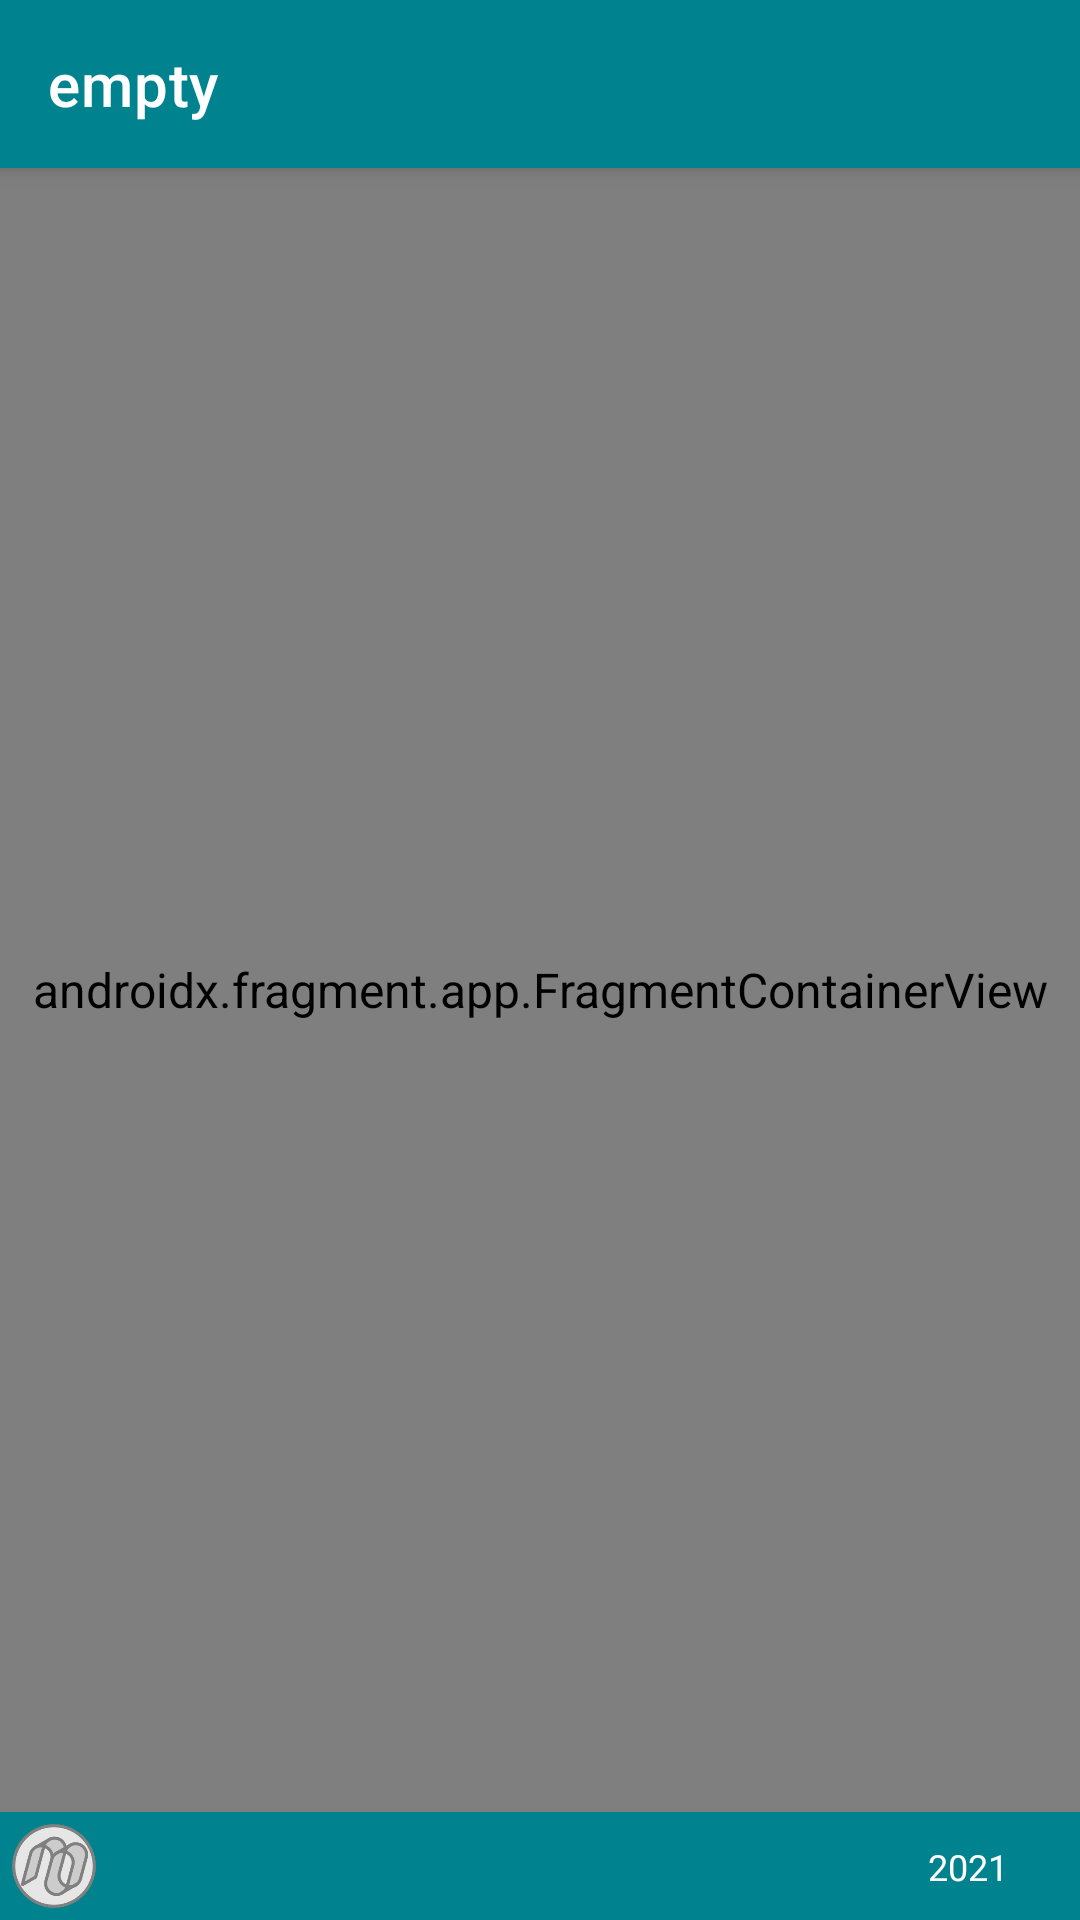

Screen size 1080 × 1920. Icon name, then its center in pixels as (x,y):
author: (54,1866)
